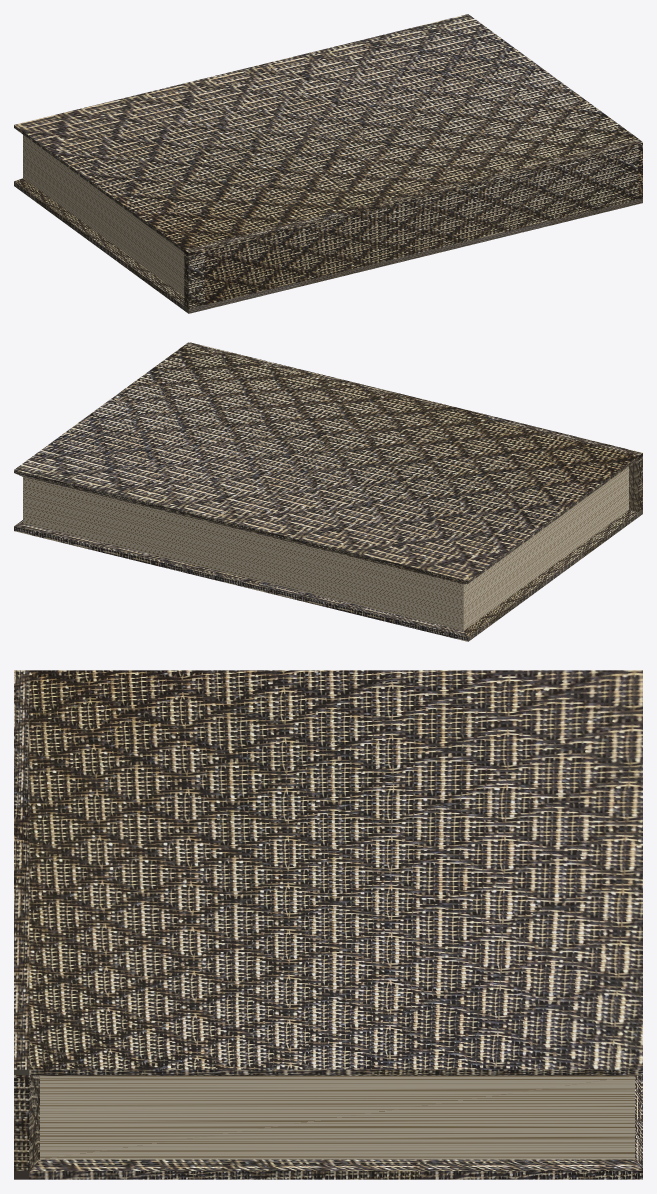
Rendered from BookClosedTex_BrownDone.fbx.
3 renders of one model, top to bottom at view 1: azimuth 30°, elevation 25°; view 2: azimuth 150°, elevation 25°; view 3: azimuth 270°, elevation 25°, orthographic. The views are drawn at different scales.
Parts seen in each view (by area): view 1: BookClosed_Rescaled; view 2: BookClosed_Rescaled; view 3: BookClosed_Rescaled.
Part boxes in pixels (box(x1,y1,x2,y2)): BookClosed_Rescaled: box(14, 14, 642, 313); BookClosed_Rescaled: box(14, 342, 642, 641); BookClosed_Rescaled: box(14, 670, 642, 1179).
Bounding box in the file's own units: 34.73 × 4.47 × 23.13.
